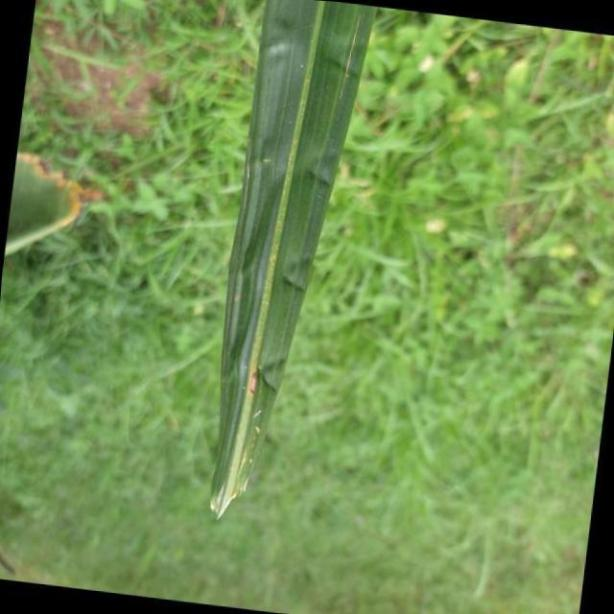Boron: (187, 0, 374, 533)
